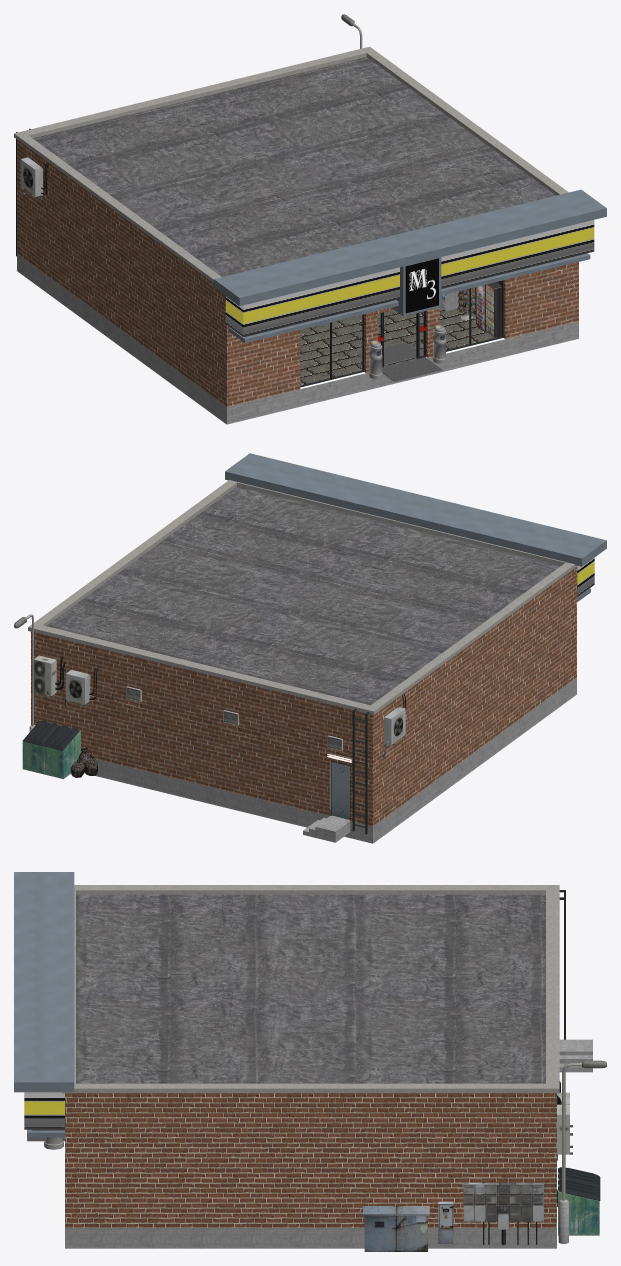
Rendered from 1785358428780_m3_mart.glb.
The picture shows the model from 3 angles, top to bottom: view 1: azimuth 30°, elevation 25°; view 2: azimuth 150°, elevation 25°; view 3: azimuth 270°, elevation 25°; orthographic projection. The views are drawn at different scales.
Parts seen in each view (by area): view 1: 6twelve_Concrete_0_10, 6twelve_Metal_02_0_11, 6twelve_Sign_0_13, Plane_158, 6twelve_6twelve_0_9, Librero.011_160, 6twelve_Metal_04_0_12, Rug.003_Fabric_01_0_120; view 2: 6twelve_Concrete_0_10, 6twelve_Metal_02_0_11, Dump_Metal_09_0_53, Door_03_Door_03_0_44, trash_can_lid_Metal_04_0_142, trash_can_lid_01_Metal_04_0_141; view 3: 6twelve_Concrete_0_10, 6twelve_Metal_02_0_11, 6twelve_Sign_0_13, Dump_Metal_09_0_53, trash_can_lid_01_Metal_04_0_141.
Boxes of the visible parts, x1,y1,x2,y2 form: 6twelve_Concrete_0_10: (14,14,578,424); 6twelve_Metal_02_0_11: (214,189,606,343); 6twelve_Sign_0_13: (225,220,594,336); Plane_158: (300,281,502,386); 6twelve_6twelve_0_9: (405,258,438,313); Librero.011_160: (476,282,501,337); 6twelve_Metal_04_0_12: (300,280,503,387); Rug.003_Fabric_01_0_120: (382,357,441,381); 6twelve_Concrete_0_10: (14,480,577,843); 6twelve_Metal_02_0_11: (225,453,606,602); Dump_Metal_09_0_53: (22,720,80,778); Door_03_Door_03_0_44: (331,762,349,819); trash_can_lid_Metal_04_0_142: (43,725,79,750); trash_can_lid_01_Metal_04_0_141: (23,720,59,745); 6twelve_Concrete_0_10: (62,885,606,1251); 6twelve_Metal_02_0_11: (14,872,74,1137); 6twelve_Sign_0_13: (24,1092,64,1129); Dump_Metal_09_0_53: (558,1168,599,1235); trash_can_lid_01_Metal_04_0_141: (558,1179,600,1200).
Bounding box in the file's own units: 15.68 × 6.23 × 18.15.
Materials: 66 (64 with a texture image).
